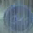bike lane: (1, 2, 32, 31)
